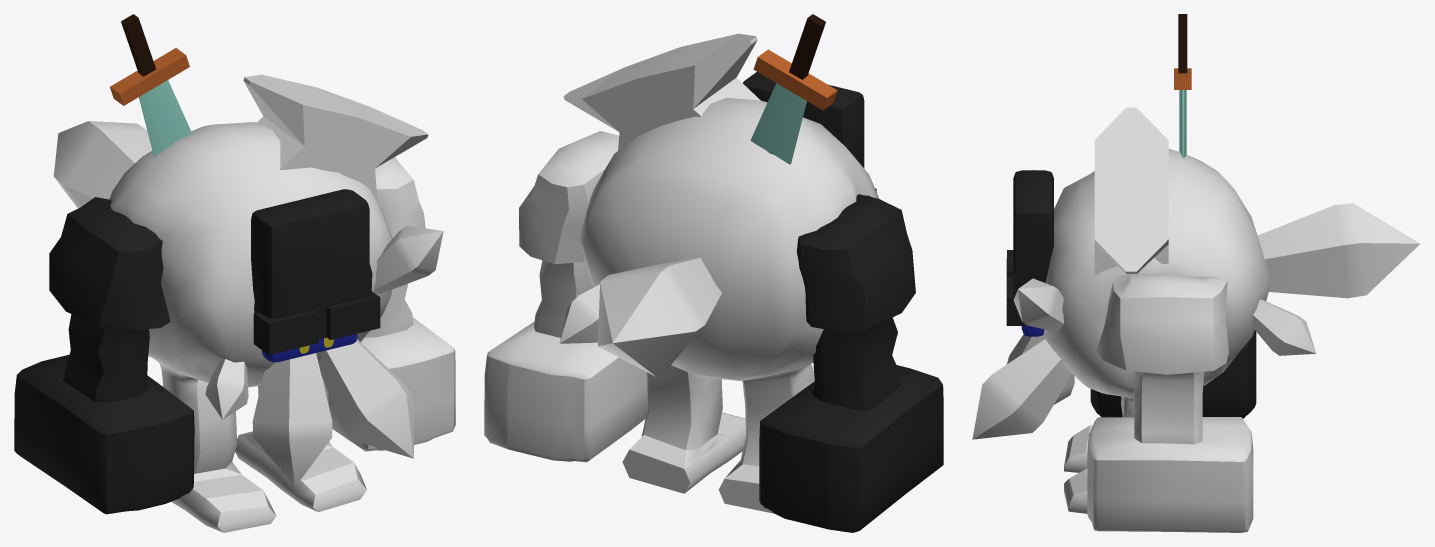
File: Golem.fbx
3 renders of one model, left to right at view 1: azimuth 30°, elevation 25°; view 2: azimuth 150°, elevation 25°; view 3: azimuth 270°, elevation 25°, orthographic. The views are drawn at different scales.
Parts seen in each view (by area): view 1: Corps_Jambes, Bras_Gauche, Tête, Enclume, Bras_Droit, Cristal_02, Cristal_01, Cristal_05, Epée, Cristal_04, Cristal_03; view 2: Corps_Jambes, Bras_Gauche, Bras_Droit, Enclume, Cristal_05, Epée, Tête, Cristal_06; view 3: Bras_Droit, Corps_Jambes, Enclume, Cristal_05, Cristal_01, Tête, Bras_Gauche, Cristal_06, Cristal_04, Epée, Cristal_02.
Part boxes in pixels (x1,y1,x2,y2): Corps_Jambes: (109,122,392,532); Bras_Gauche: (14,197,194,514); Tête: (251,189,380,362); Enclume: (243,74,428,201); Bras_Droit: (328,157,455,451); Cristal_02: (252,353,332,486); Cristal_01: (318,339,414,458); Cristal_05: (53,121,152,208); Epée: (110,14,191,156); Cristal_04: (373,225,443,294); Cristal_03: (205,359,248,419); Corps_Jambes: (579,98,879,513); Bras_Gauche: (759,194,943,532); Bras_Droit: (484,131,647,462); Enclume: (563,33,760,150); Cristal_05: (598,257,721,376); Epée: (750,14,837,164); Tête: (743,72,876,192); Cristal_06: (559,284,599,343); Bras_Droit: (1087,273,1253,532); Corps_Jambes: (1043,149,1271,513); Enclume: (1094,107,1168,275); Cristal_05: (1257,203,1420,298); Cristal_01: (972,339,1072,439); Tête: (1006,170,1053,336); Bras_Gauche: (1090,330,1256,418); Cristal_06: (1252,299,1316,355); Cristal_04: (1013,278,1064,331); Epée: (1174,14,1191,157); Cristal_02: (1006,334,1074,404).
Bounding box in the file's own units: 107 × 135 × 129.
